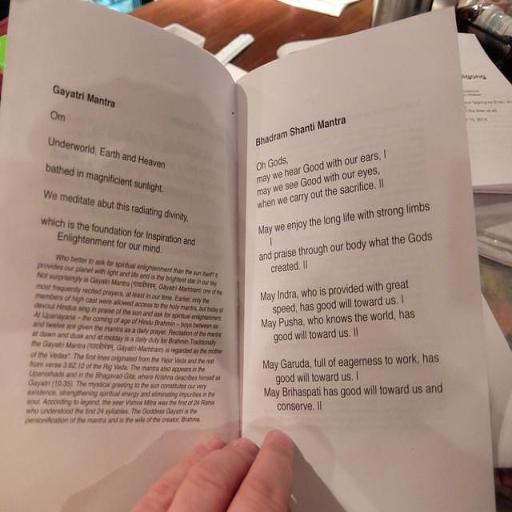paper: (0, 0, 499, 512), (455, 32, 512, 195)
